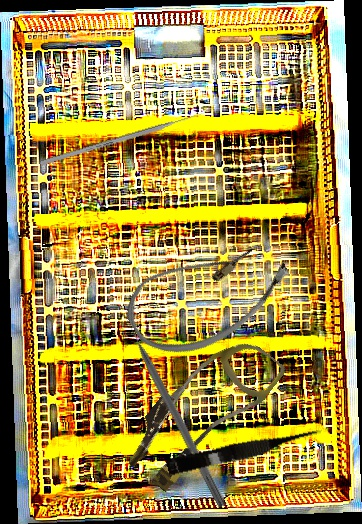Cannula: (116, 318, 288, 505), (114, 211, 301, 377)
Micro Scissor: (165, 423, 326, 480)
Pusher: (120, 311, 229, 509), (40, 109, 208, 167)
